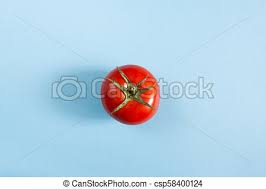tomato: (102, 65, 159, 126)
